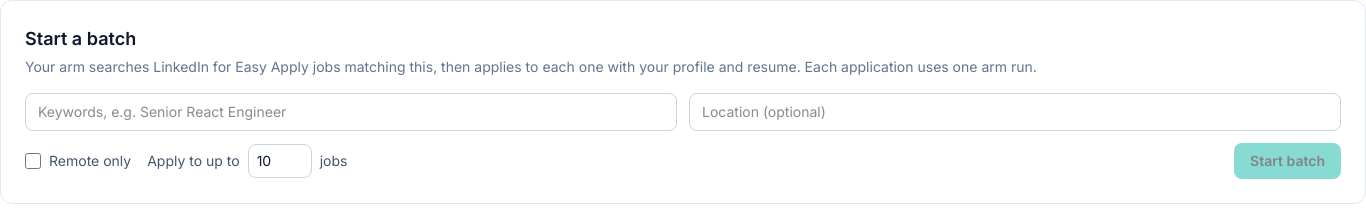
it: starting a batch › clamps the job count into 1..25 and defaults nonsense to 1
The image size is (1366, 221).
Replace the text in the number field named "Number of jobs" with "99": (280, 161) left=248, top=144, right=312, bottom=178
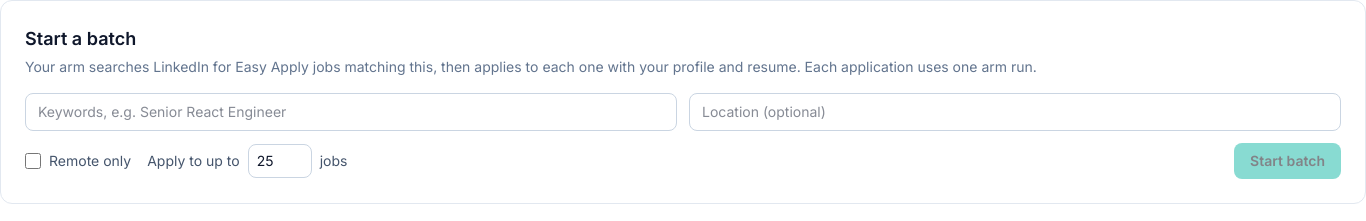
Expected: the number field named "Number of jobs" holds "25"
Clear the number field named "Number of jobs": (280, 161) left=248, top=144, right=312, bottom=178
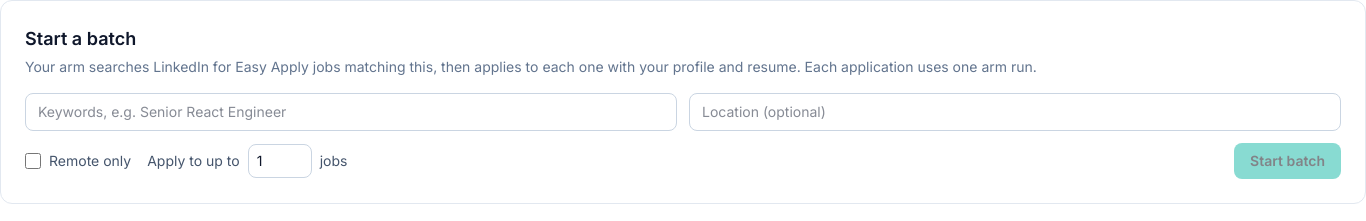
Expected: the number field named "Number of jobs" holds "1", left=248, top=144, right=312, bottom=178
